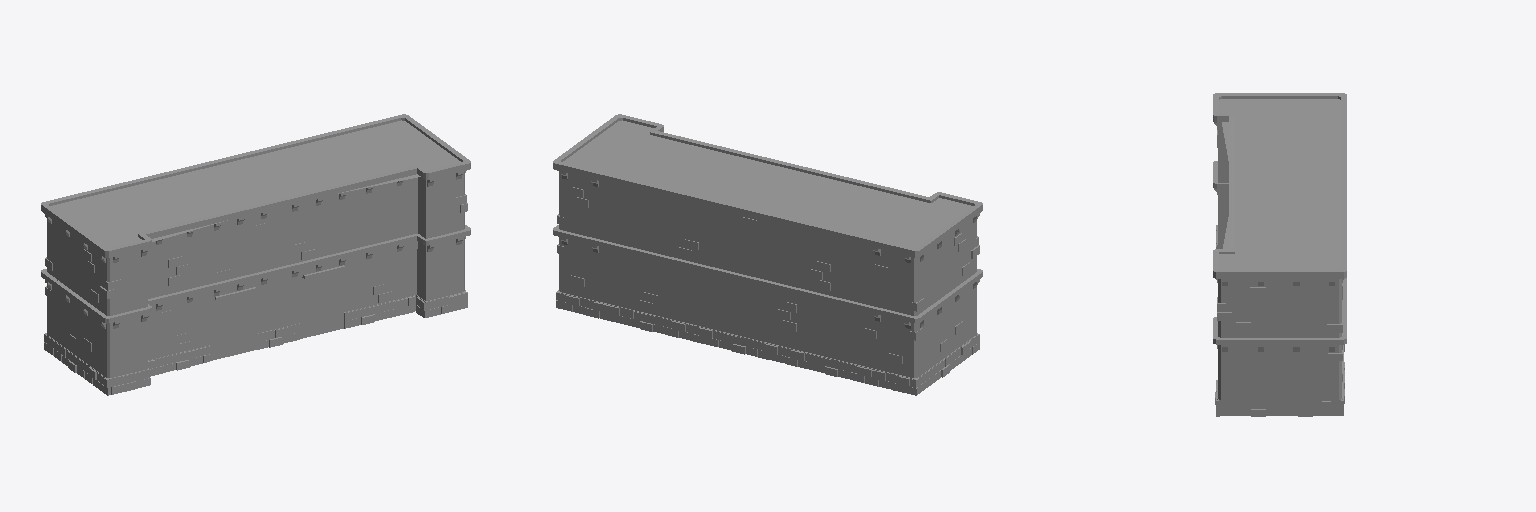
The model's file is 2Story_Wide_2Doors_Base.obj.
3 renders of one model, left to right at view 1: azimuth 30°, elevation 25°; view 2: azimuth 150°, elevation 25°; view 3: azimuth 270°, elevation 25°, orthographic.
Visible parts, largest first — view 1: 2Story_Wide_2Doors_Base_Cube.175; view 2: 2Story_Wide_2Doors_Base_Cube.175; view 3: 2Story_Wide_2Doors_Base_Cube.175.
Part boxes in pixels (x1,y1,x2,y2): 2Story_Wide_2Doors_Base_Cube.175: (41,114,470,395); 2Story_Wide_2Doors_Base_Cube.175: (553,114,982,395); 2Story_Wide_2Doors_Base_Cube.175: (1213,93,1346,416).
Bounding box in the file's own units: 6.83 × 2.61 × 2.15.